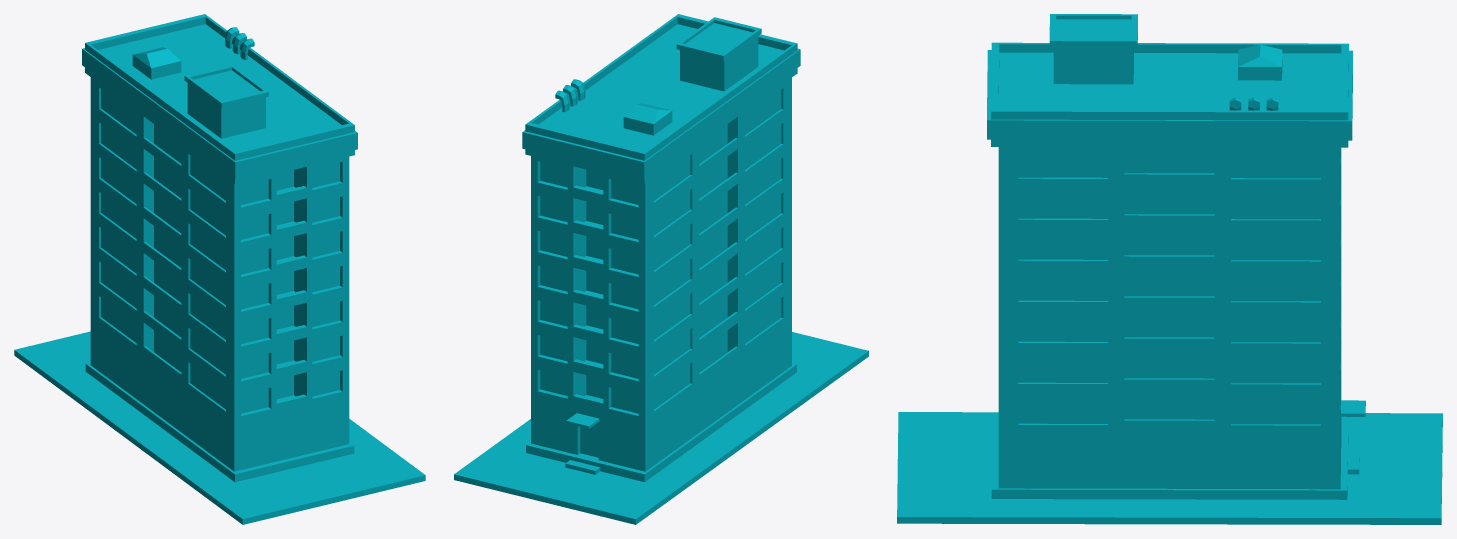
3 renders of one model, left to right at view 1: azimuth 30°, elevation 25°; view 2: azimuth 150°, elevation 25°; view 3: azimuth 270°, elevation 25°, orthographic. The views are drawn at different scales.
Visible parts, largest first — view 1: Object010; view 2: Object010; view 3: Object010.
Part boxes in pixels (<box>): Object010: <box>14,14,425,524</box>; Object010: <box>454,14,868,524</box>; Object010: <box>897,14,1442,524</box>.
Size of the model in its own units: 7.38 by 13.92 by 16.03.
